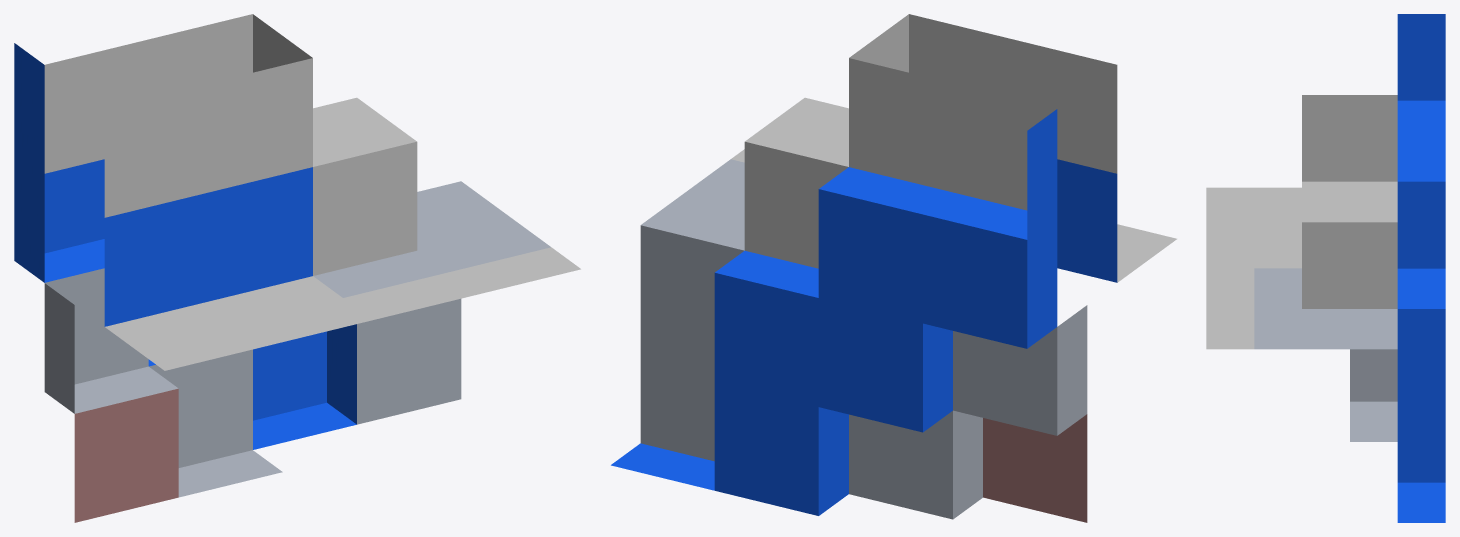
File: cell_203.obj
3 views of the same model, side by side, from view 1: azimuth 30°, elevation 25°; view 2: azimuth 150°, elevation 25°; view 3: azimuth 270°, elevation 25° (orthographic). The views are drawn at different scales.
Size of the model in its own units: 1 by 1 by 0.625.
